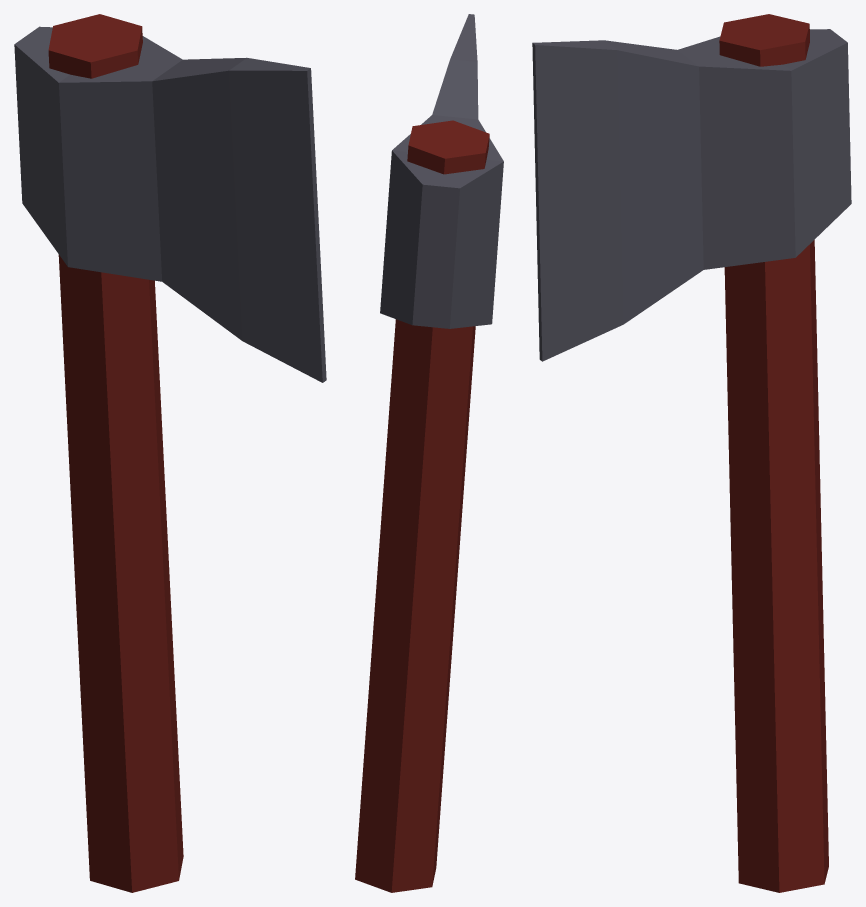
Rendered from axe.fbx.
The picture shows the model from 3 angles, left to right: view 1: azimuth 30°, elevation 25°; view 2: azimuth 150°, elevation 25°; view 3: azimuth 270°, elevation 25°; orthographic projection. The views are drawn at different scales.
Visible parts, largest first — view 1: Axe; view 2: Axe; view 3: Axe.
Boxes of the visible parts, box(x1,y1,x2,y2) form: Axe: box(14, 14, 326, 892); Axe: box(355, 14, 503, 892); Axe: box(532, 14, 851, 892).
Size of the model in its own units: 18.93 by 96.84 by 32.81.
